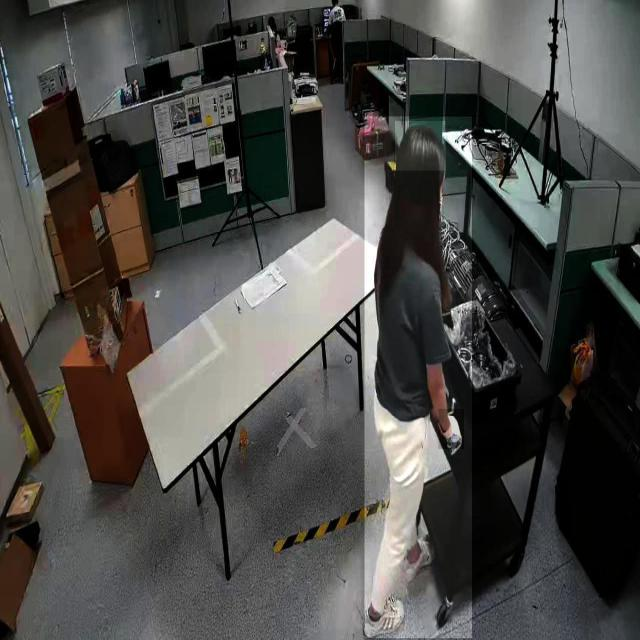hand_glove: (438, 409, 464, 450)
head_nohelmet: (395, 121, 447, 171)
person: (364, 117, 472, 639)
shoes: (360, 585, 406, 640)
